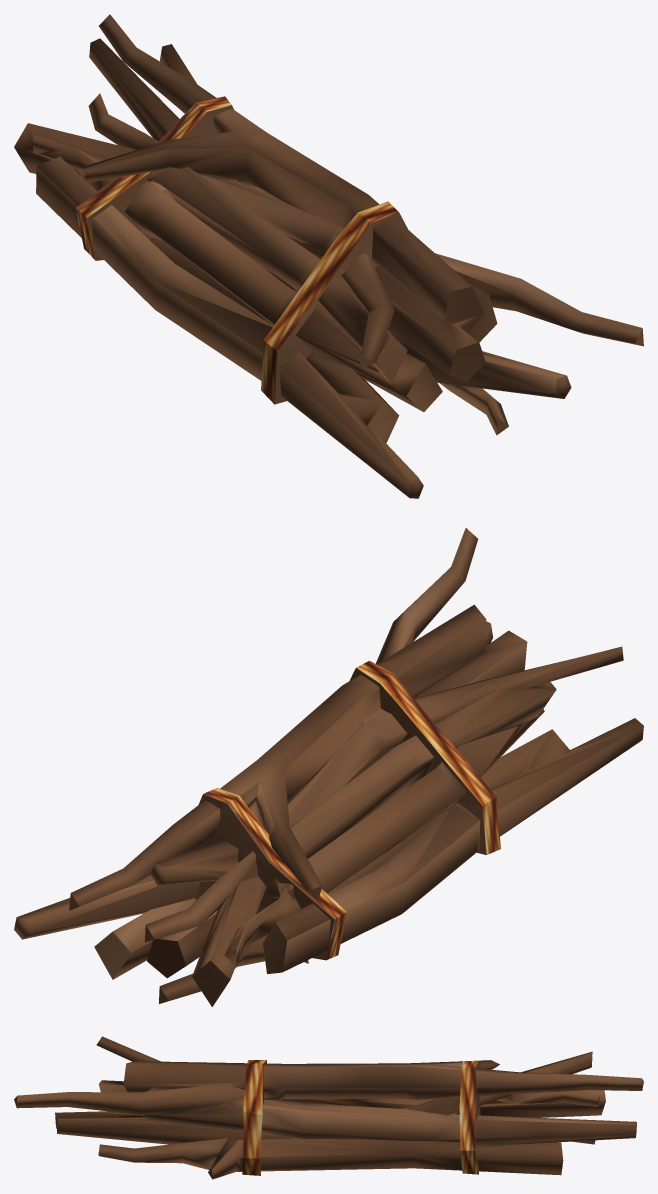
The model's file is DJG_BoundTwigs20.fbx.
3 views of the same model, one above another, from view 1: azimuth 30°, elevation 25°; view 2: azimuth 150°, elevation 25°; view 3: azimuth 270°, elevation 25° (orthographic). The views are drawn at different scales.
Visible parts, largest first — view 1: Twigs.001; view 2: Twigs.001; view 3: Twigs.001.
Boxes of the visible parts, x1,y1,x2,y2 form: Twigs.001: (14, 14, 643, 498); Twigs.001: (14, 528, 643, 1006); Twigs.001: (14, 1036, 643, 1179).
Size of the model in its own units: 0.1396 by 0.0987 by 0.511.
